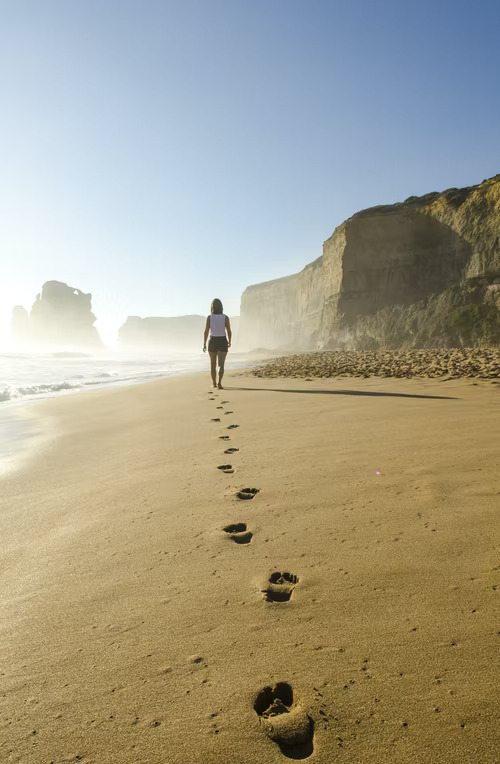person: (203, 298, 232, 389)
